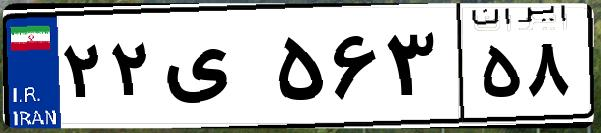2: (57, 26, 110, 100), (110, 28, 158, 98)
3: (385, 28, 445, 110)
5: (270, 28, 330, 110), (475, 38, 525, 113)
6: (330, 28, 385, 110)
8: (525, 38, 570, 115)
ی: (158, 20, 270, 120)
